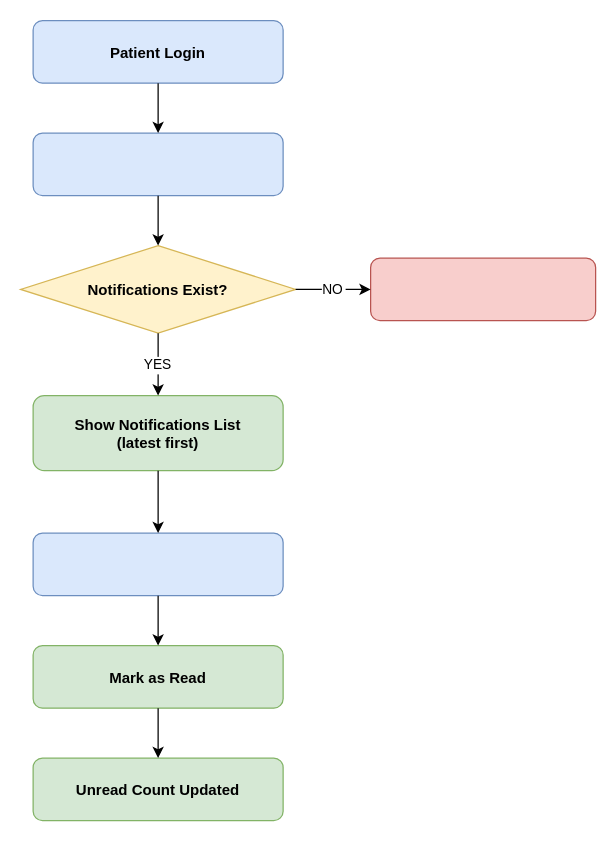
Image size: 616x841. Some labels were removed from this diagram. Each missing label, with the centre of its shape:
"Fetch Notifications" belongs at point (157, 164).
"No Notifications Found" belongs at point (482, 289).
"Open Notification" belongs at point (157, 564).
